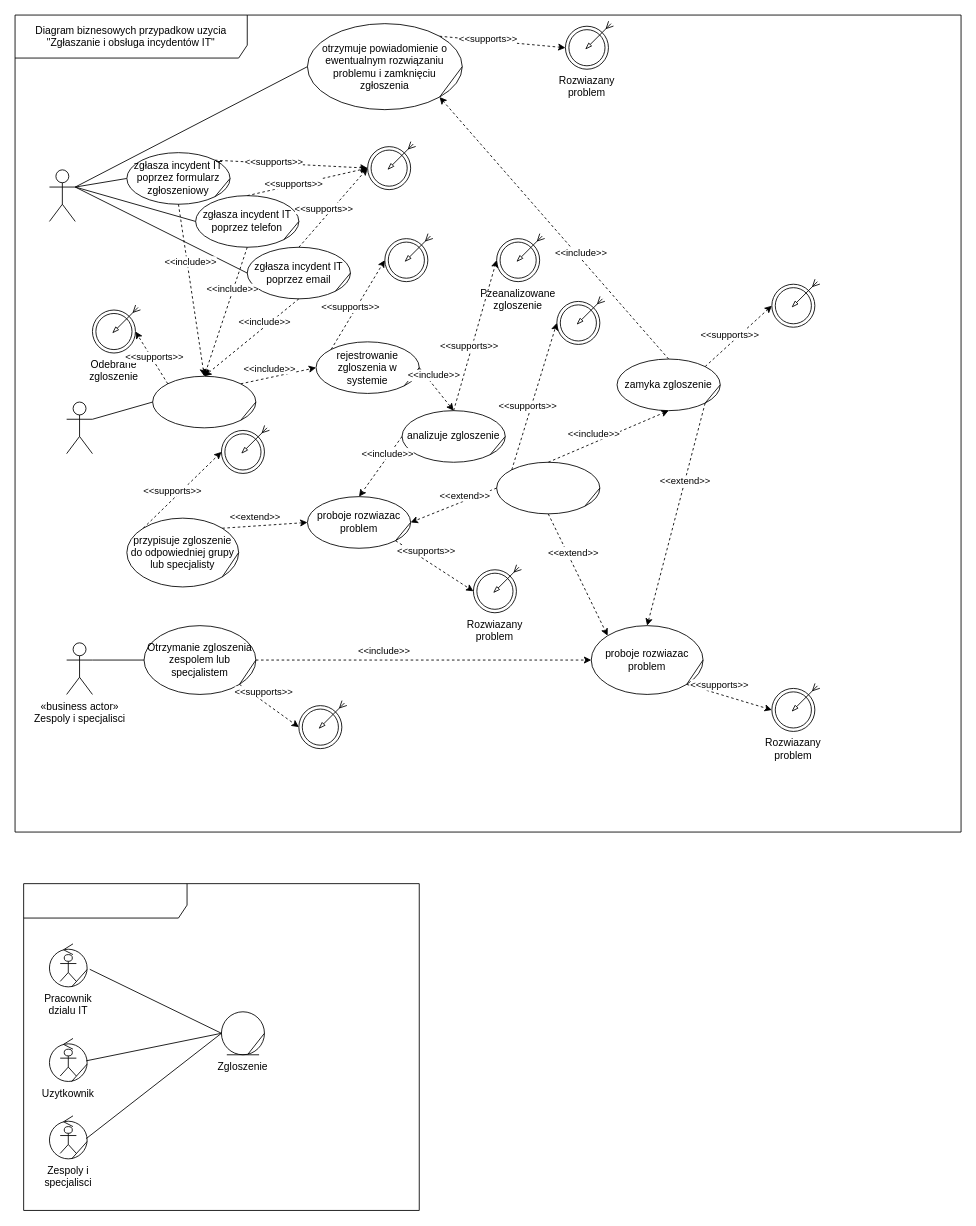
Image size: 976x1226. Some labels were removed from this diagram. Here are the shapes that lost their labels. From the top down, the box of each, then its label:
(367, 146, 411, 190): Napisane zgloszenie
(49, 169, 75, 221): «business actor» uzytkownik
(384, 238, 428, 282): Zgloszenie dodane do systemu
(556, 301, 600, 344): Informacja o rozwiazaniu dodana do systemu
(771, 283, 815, 327): Zamkniete zgloszenie
(152, 375, 256, 428): odbieranie zgloszenia
(66, 401, 92, 454): «business actor» pracownik dzialu IT
(221, 430, 264, 473): Przypisane zgloszenie
(496, 461, 600, 514): wprowadza informacje o rozwiazaniu do systemu
(298, 705, 342, 749): Otrzymane zgloszenie
(23, 883, 419, 1210): Diagram analityczny "Zgłaszanie i obsługa incydentów IT"
